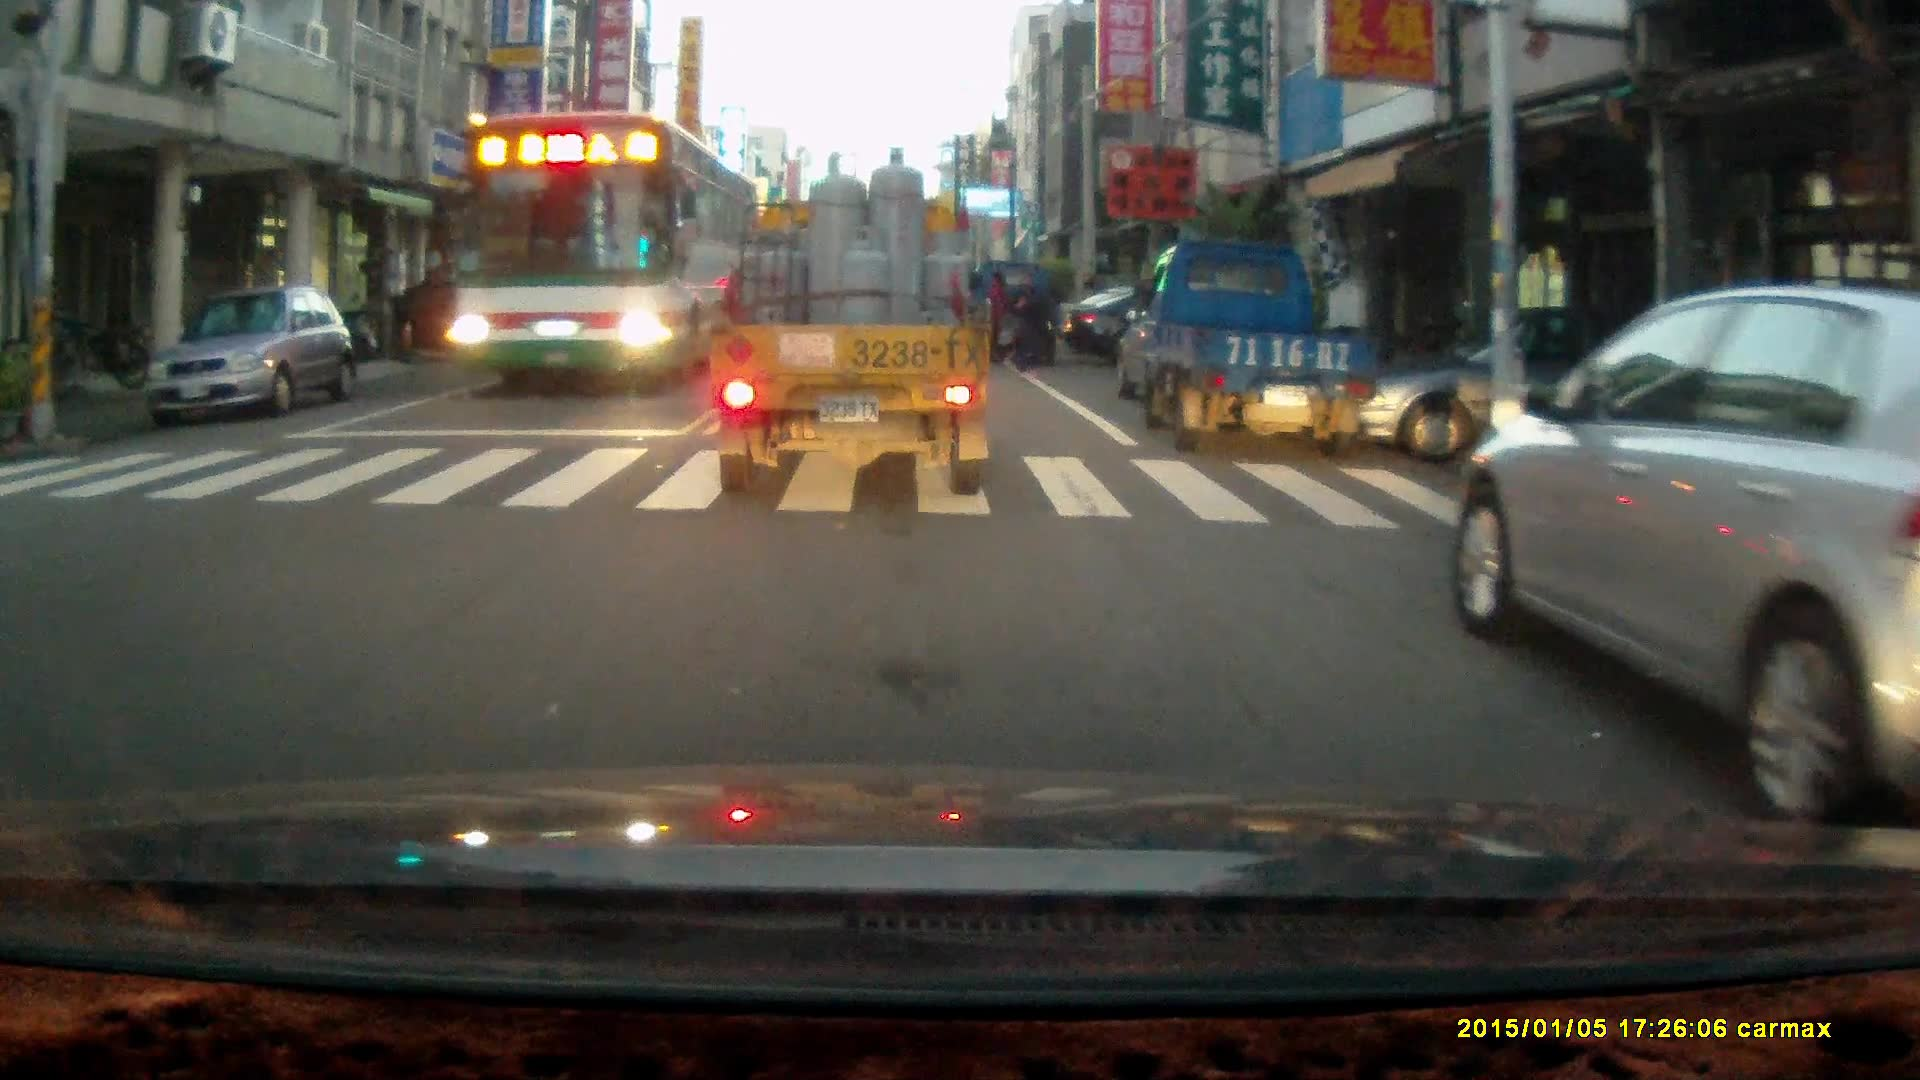pedestrian: (1007, 269, 1052, 377), (981, 270, 1009, 372)
vehicle: (1453, 282, 1920, 815), (709, 146, 998, 501), (448, 114, 756, 396), (1121, 237, 1380, 456), (1374, 336, 1675, 461), (143, 289, 357, 429), (331, 281, 541, 367), (971, 262, 1069, 373)
